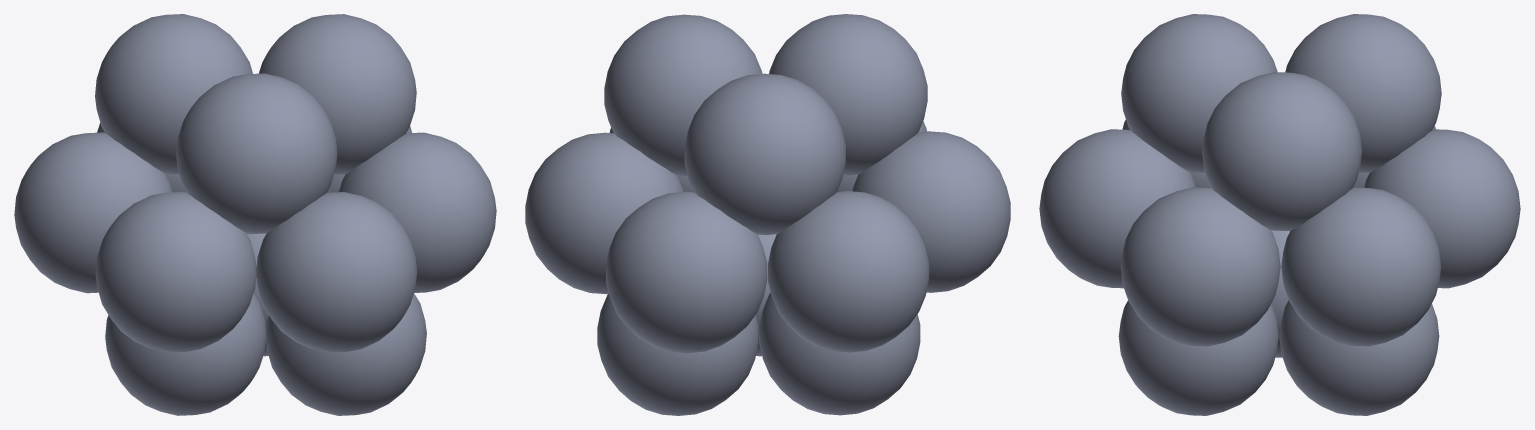
3 views of the same model, side by side, from view 1: azimuth 30°, elevation 25°; view 2: azimuth 150°, elevation 25°; view 3: azimuth 270°, elevation 25° (orthographic).
Visible parts, largest first — view 1: 对象036; view 2: 对象036; view 3: 对象036.
Part boxes in pixels (x1,y1,x2,y2): 对象036: [14, 14, 496, 415]; 对象036: [525, 14, 1010, 415]; 对象036: [1039, 14, 1520, 415].
Size of the model in its own units: 109 by 95 by 120.
1 material, 1 textured.
